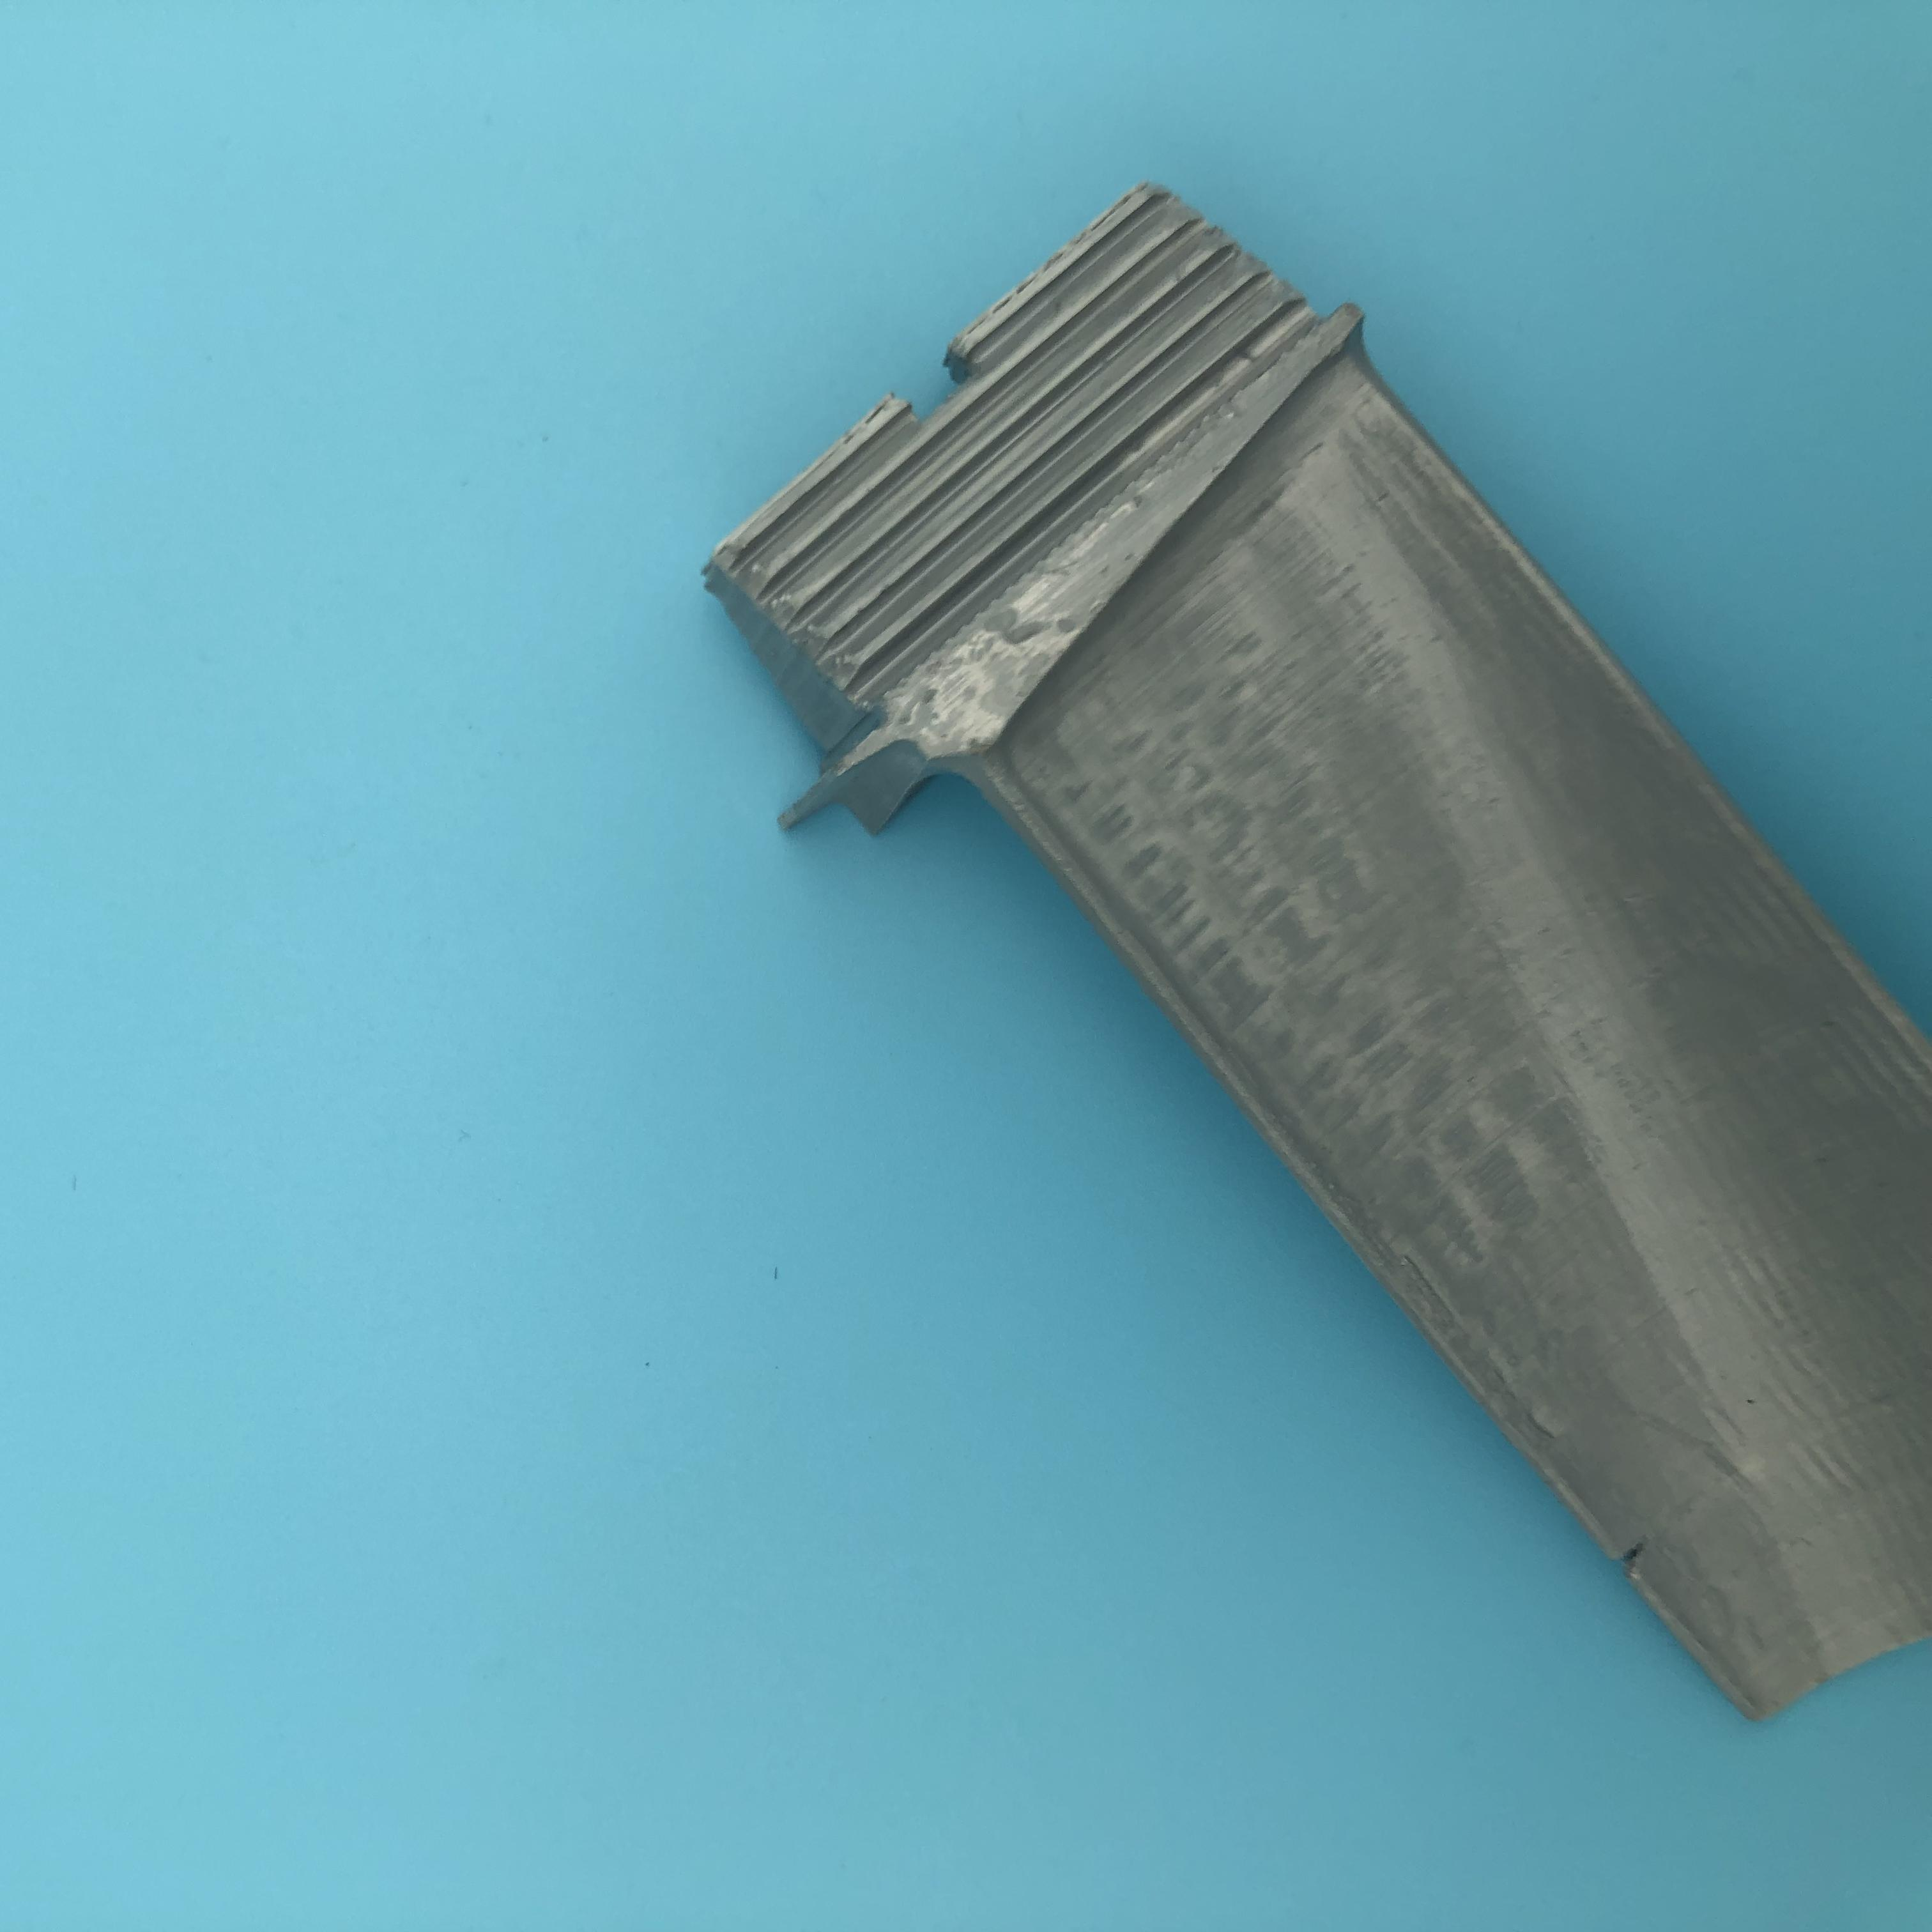groove: (1603, 1529, 1665, 1589)
